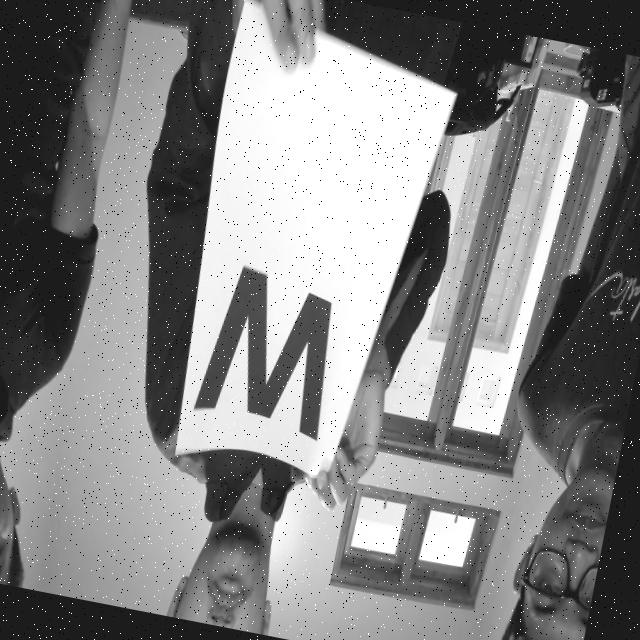w: (174, 208, 367, 460)
